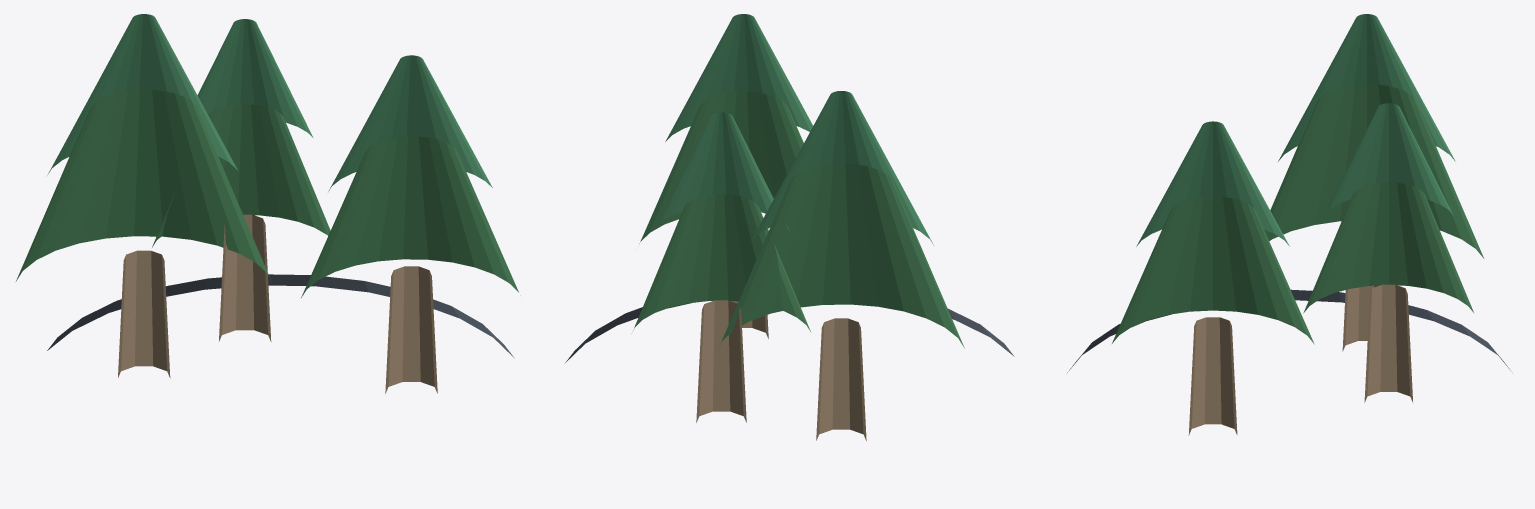
File: campus_tree_cluster.glb
The picture shows the model from 3 angles, left to right: view 1: azimuth 30°, elevation 25°; view 2: azimuth 150°, elevation 25°; view 3: azimuth 270°, elevation 25°; orthographic projection. The views are drawn at different scales.
Parts seen in each view (by area): view 1: campus_tree_cluster; view 2: campus_tree_cluster; view 3: campus_tree_cluster.
Boxes of the visible parts, x1,y1,x2,y2 form: campus_tree_cluster: (16, 14, 520, 393); campus_tree_cluster: (565, 14, 1014, 440); campus_tree_cluster: (1067, 14, 1512, 435).
Bounding box in the file's own units: 0.84 × 0.6772 × 0.84.
